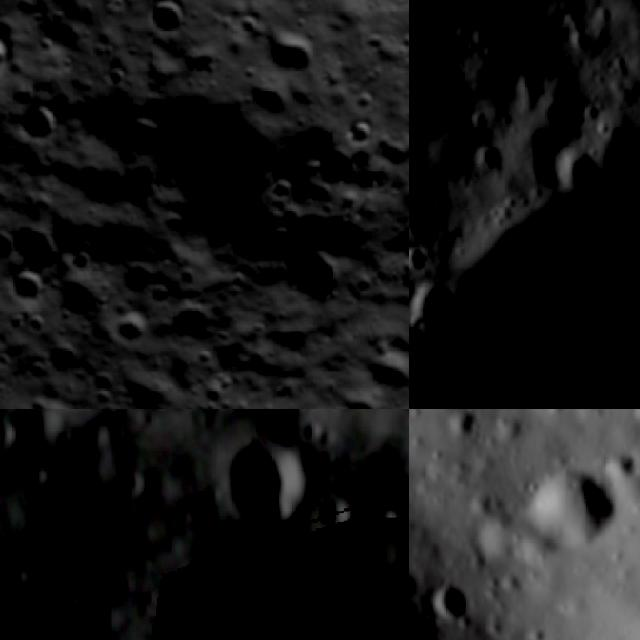crater: (106, 38, 342, 274), (506, 442, 640, 582), (209, 428, 322, 532), (276, 112, 374, 212), (269, 231, 362, 324), (332, 496, 409, 591), (304, 194, 389, 278), (41, 257, 121, 335), (414, 563, 494, 640), (0, 214, 73, 288), (10, 91, 76, 158), (260, 22, 326, 88), (351, 334, 409, 409), (165, 292, 229, 357), (131, 0, 200, 53), (37, 333, 97, 393), (0, 259, 58, 319), (409, 279, 461, 345), (105, 302, 163, 360), (551, 147, 603, 199), (438, 409, 493, 455), (23, 0, 94, 25), (333, 381, 394, 409), (0, 217, 27, 274), (0, 21, 23, 86), (115, 466, 151, 502), (28, 390, 93, 409), (21, 454, 54, 488), (473, 144, 505, 176), (0, 412, 22, 452), (618, 409, 640, 443), (409, 247, 435, 272), (464, 108, 488, 130)
